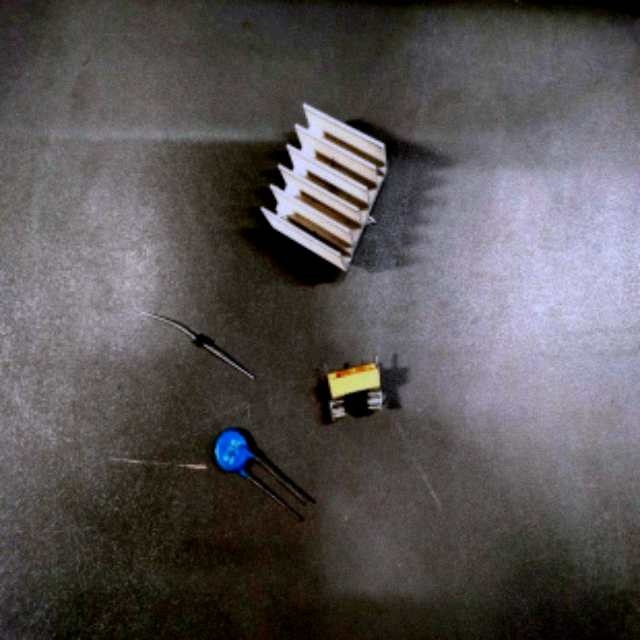capacitor: (215, 428, 256, 474)
